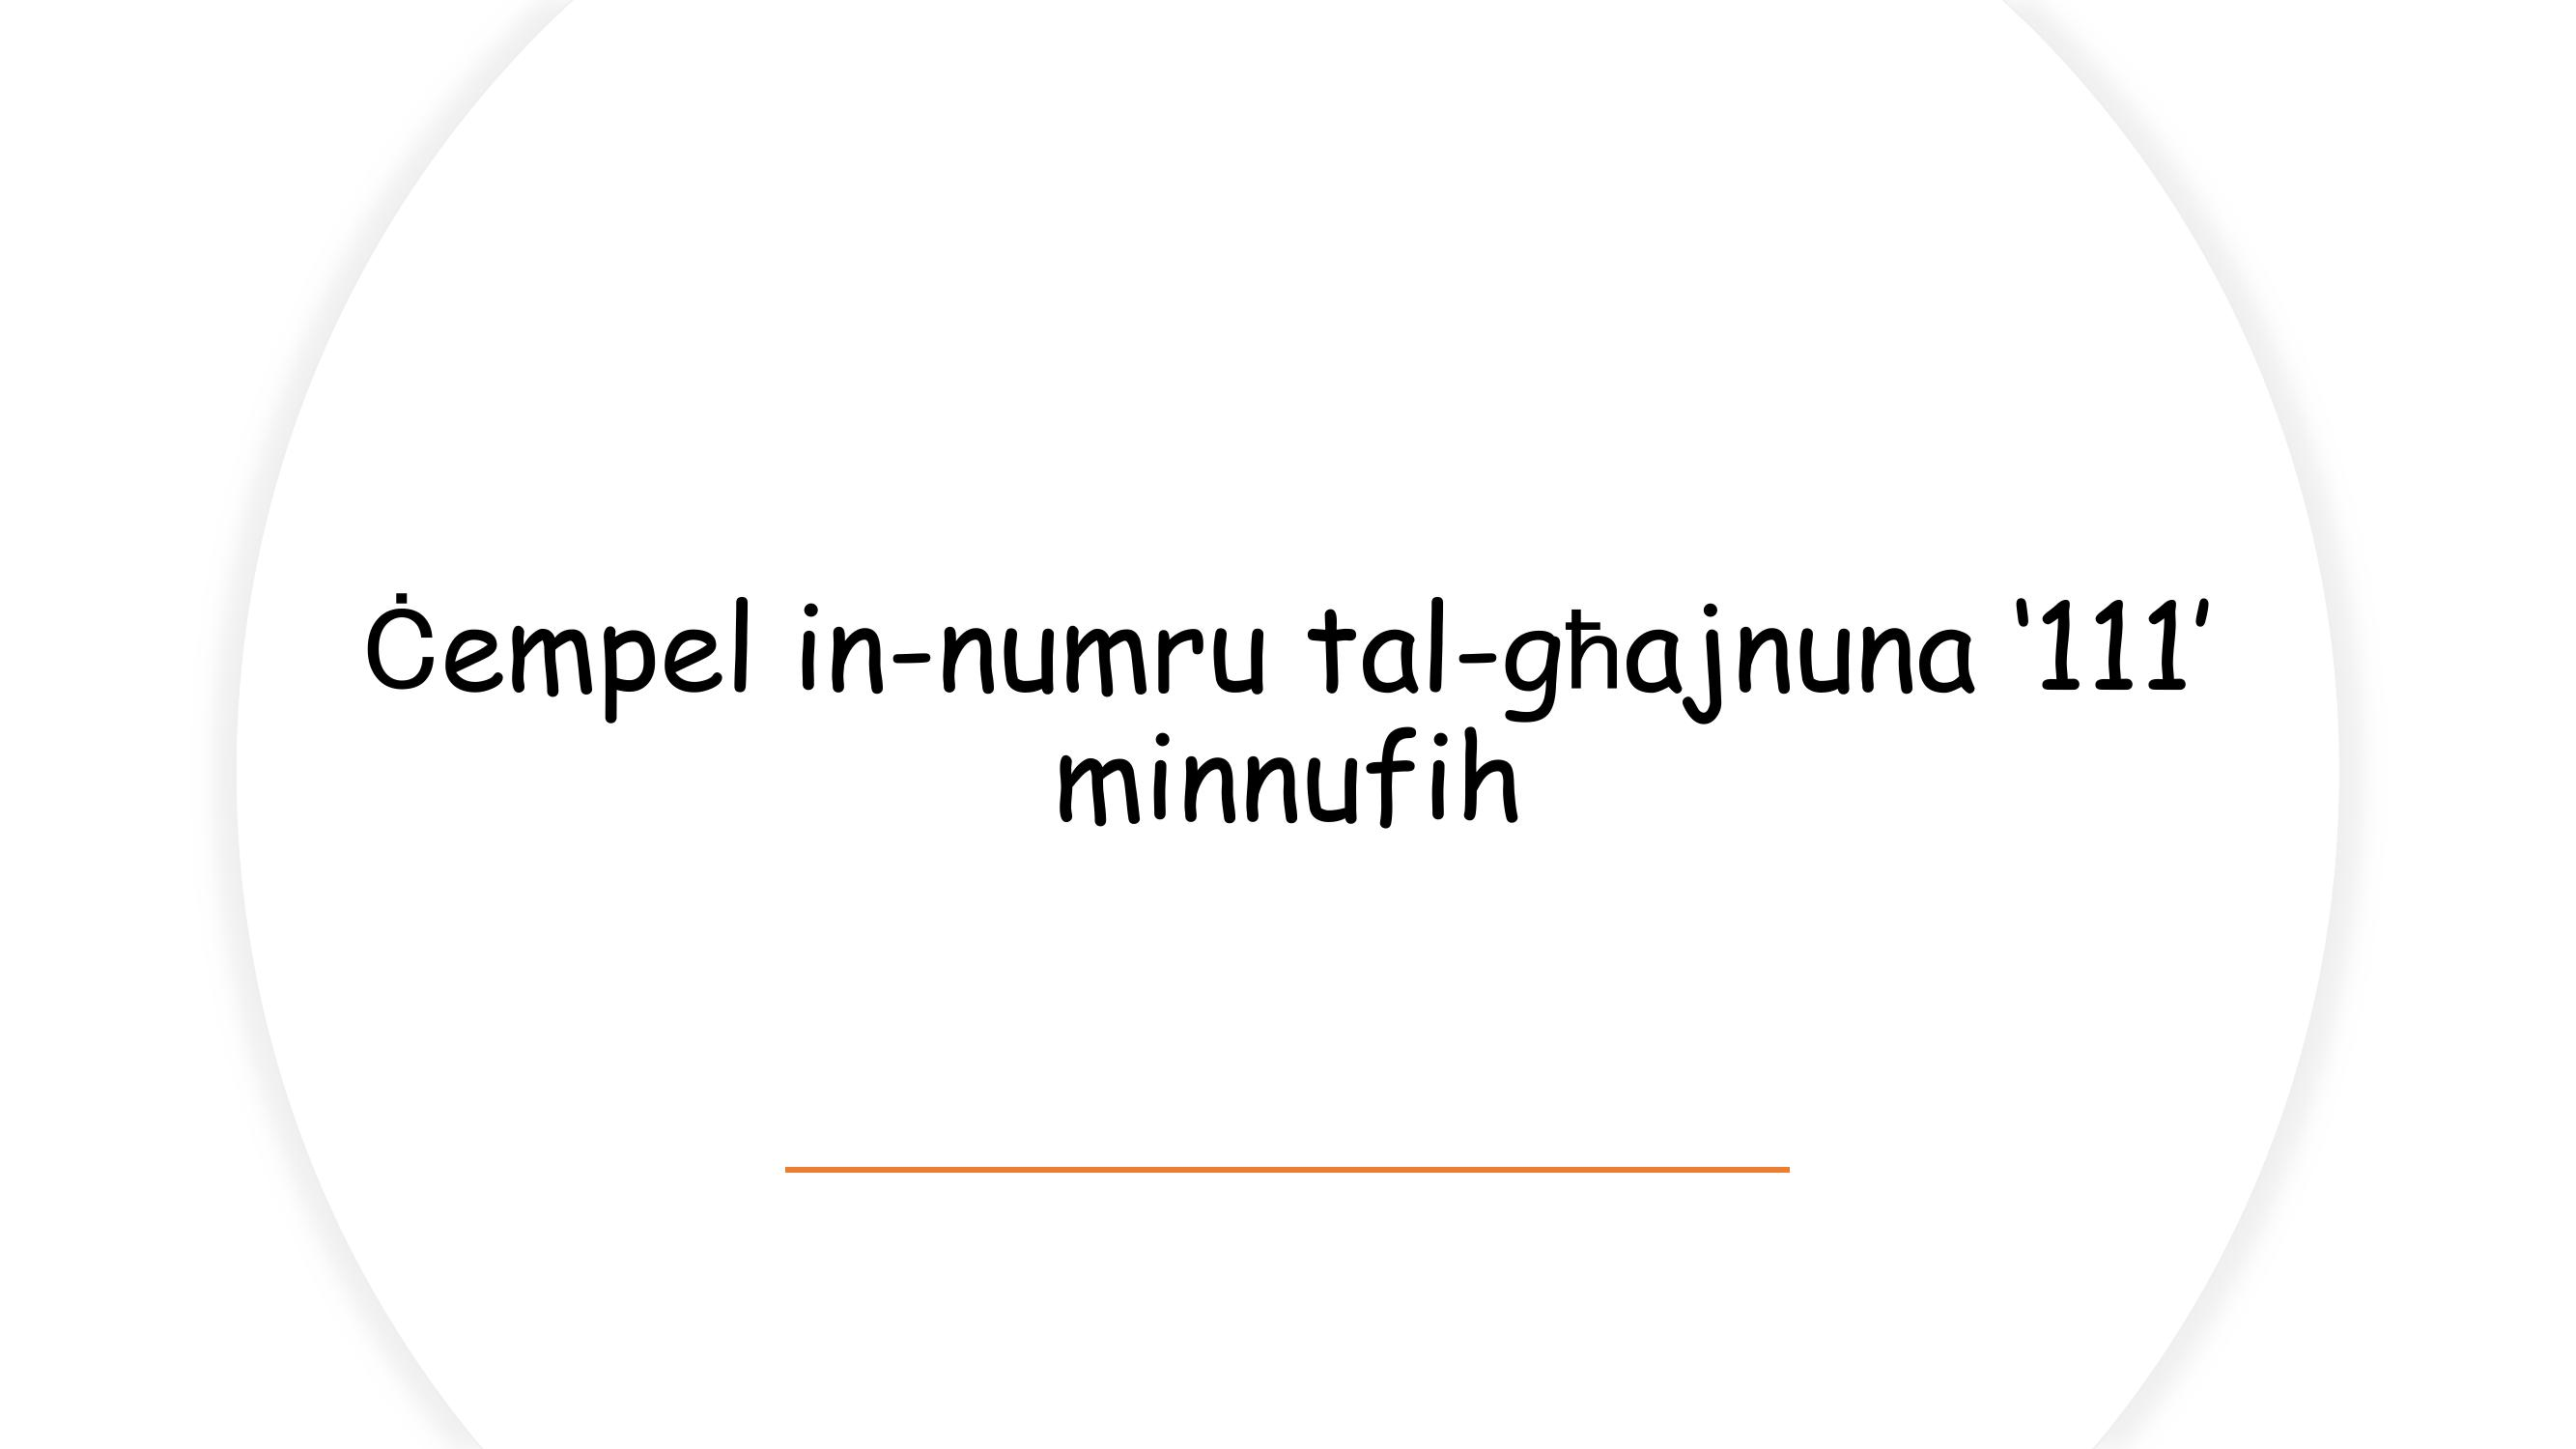text: (317, 554, 2256, 855)
